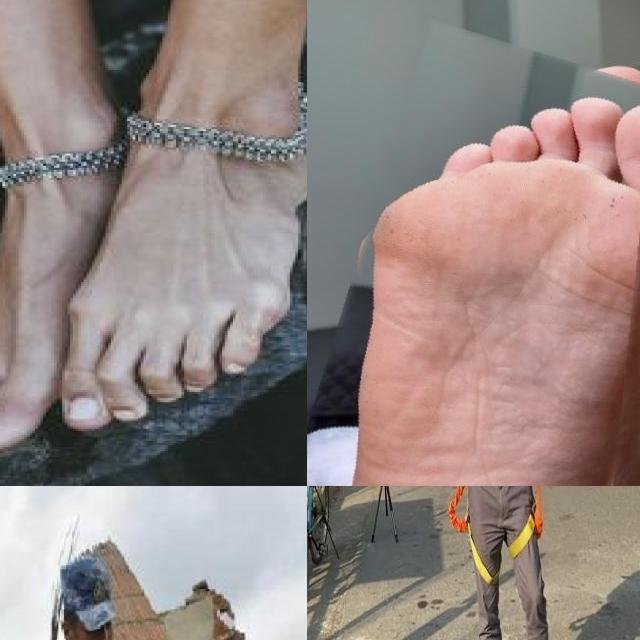Barefoots: (308, 29, 640, 486), (65, 141, 307, 425)
Harness: (448, 486, 499, 584), (509, 486, 544, 560)
face_nomask: (73, 606, 118, 640)
head_nohelmet: (54, 554, 120, 622)
person: (43, 548, 254, 640)
